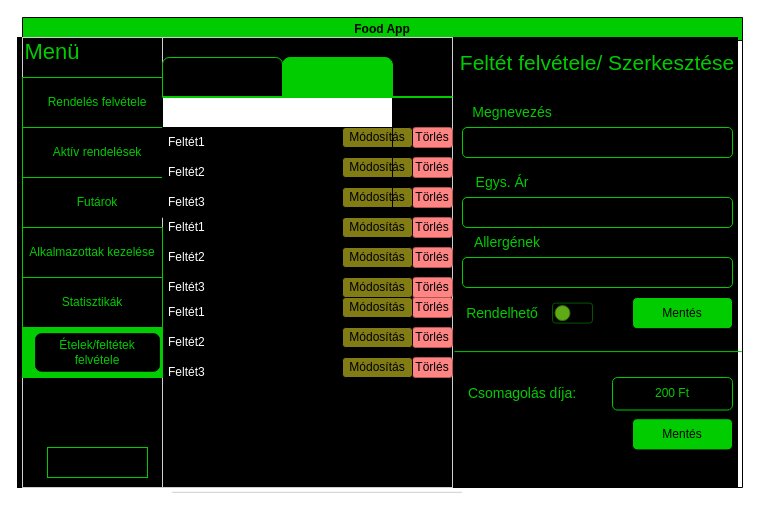
Some shapes in this 761 by 511 pixel diagram are drawn without their labels. The shapes that lost their labels are listed below. From the top down, each one's box as (x1, y1, x2, y2) in pixels, then its label:
(162, 56, 282, 102): Ételek
(282, 56, 392, 108): Feltétek
(162, 96, 392, 218): List
(46, 446, 148, 478): Kijelentkezés
